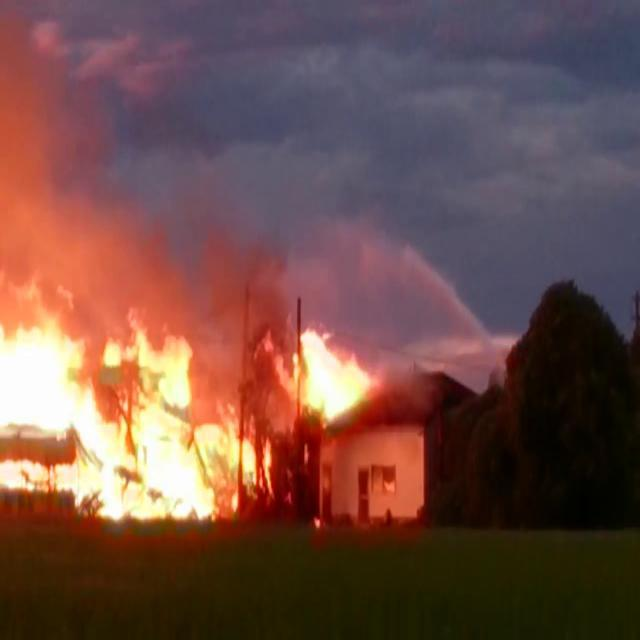Fire: (79, 310, 190, 520), (0, 264, 79, 436), (302, 328, 382, 427), (186, 418, 238, 518), (0, 458, 80, 496), (242, 417, 273, 505), (278, 353, 300, 408), (254, 322, 274, 355), (314, 516, 320, 530)
Smoke: (0, 22, 79, 260), (78, 198, 188, 311), (190, 232, 240, 416), (242, 249, 287, 318)
